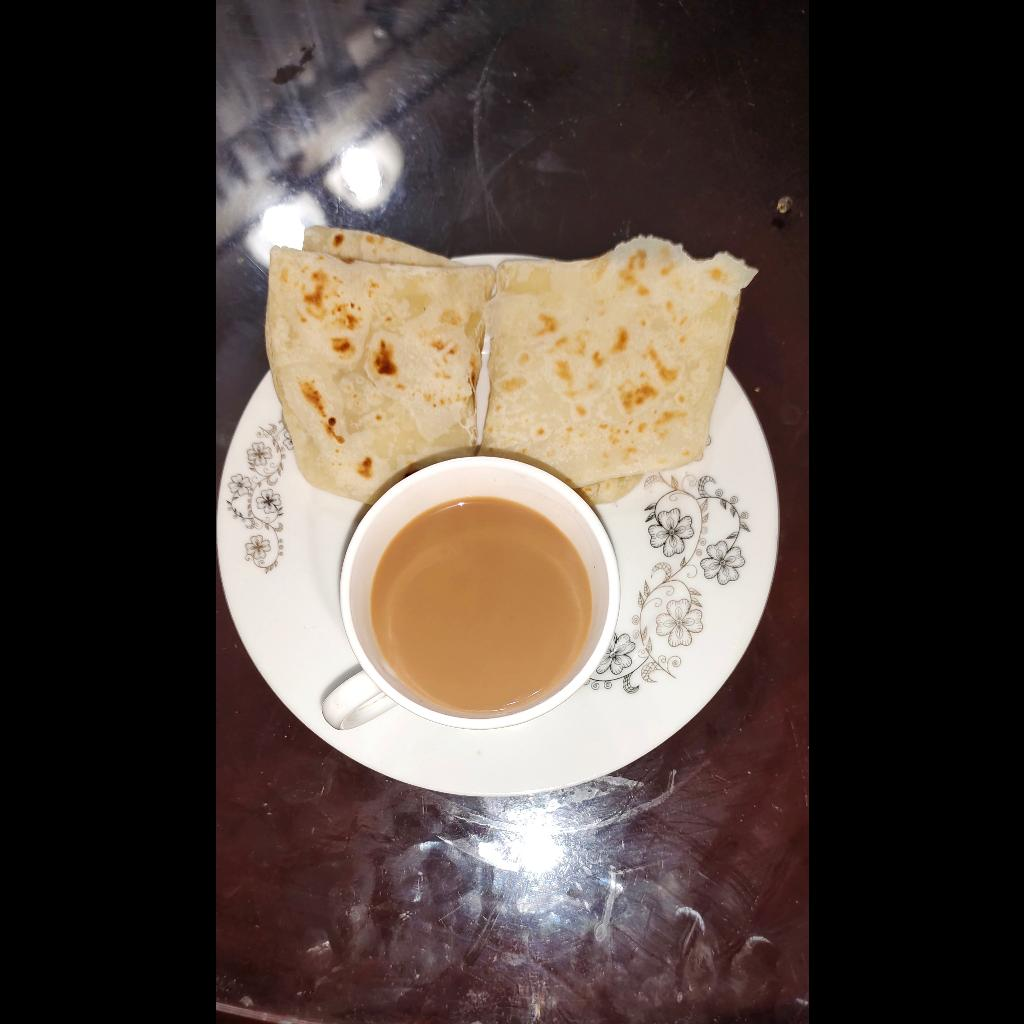cha: (367, 500, 589, 709)
ruti: (267, 224, 754, 509)
